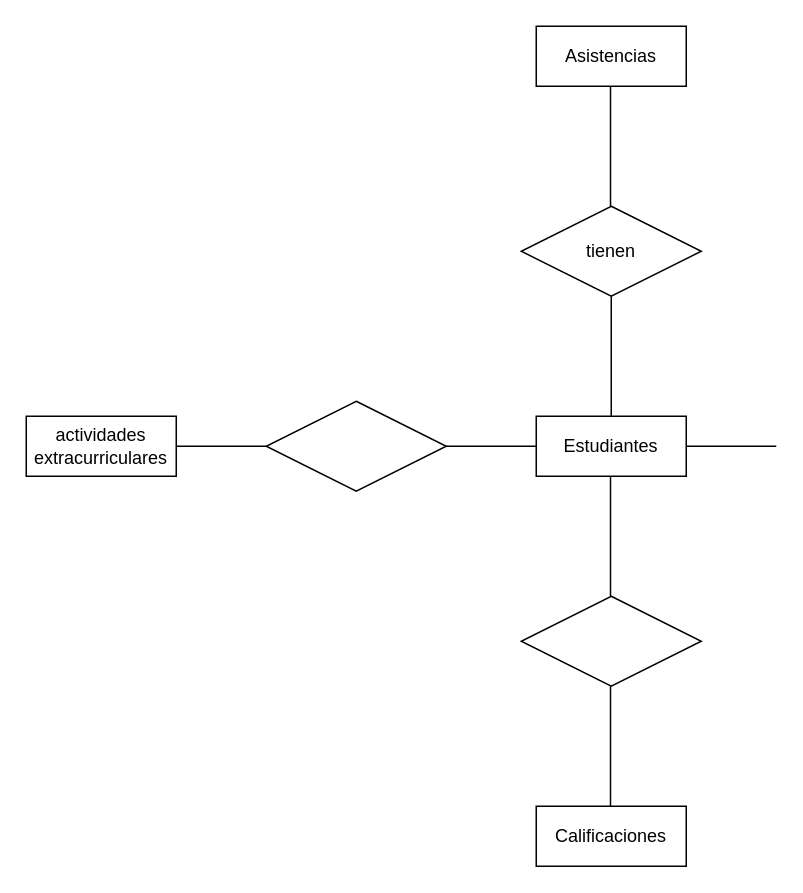
The diagram is 803 pixels wide and 893 high, and some of its shapes have lost their labels. Each missing label, with the centre of its shape:
adquieren: the point at 610,640
participan en: the point at 355,445
